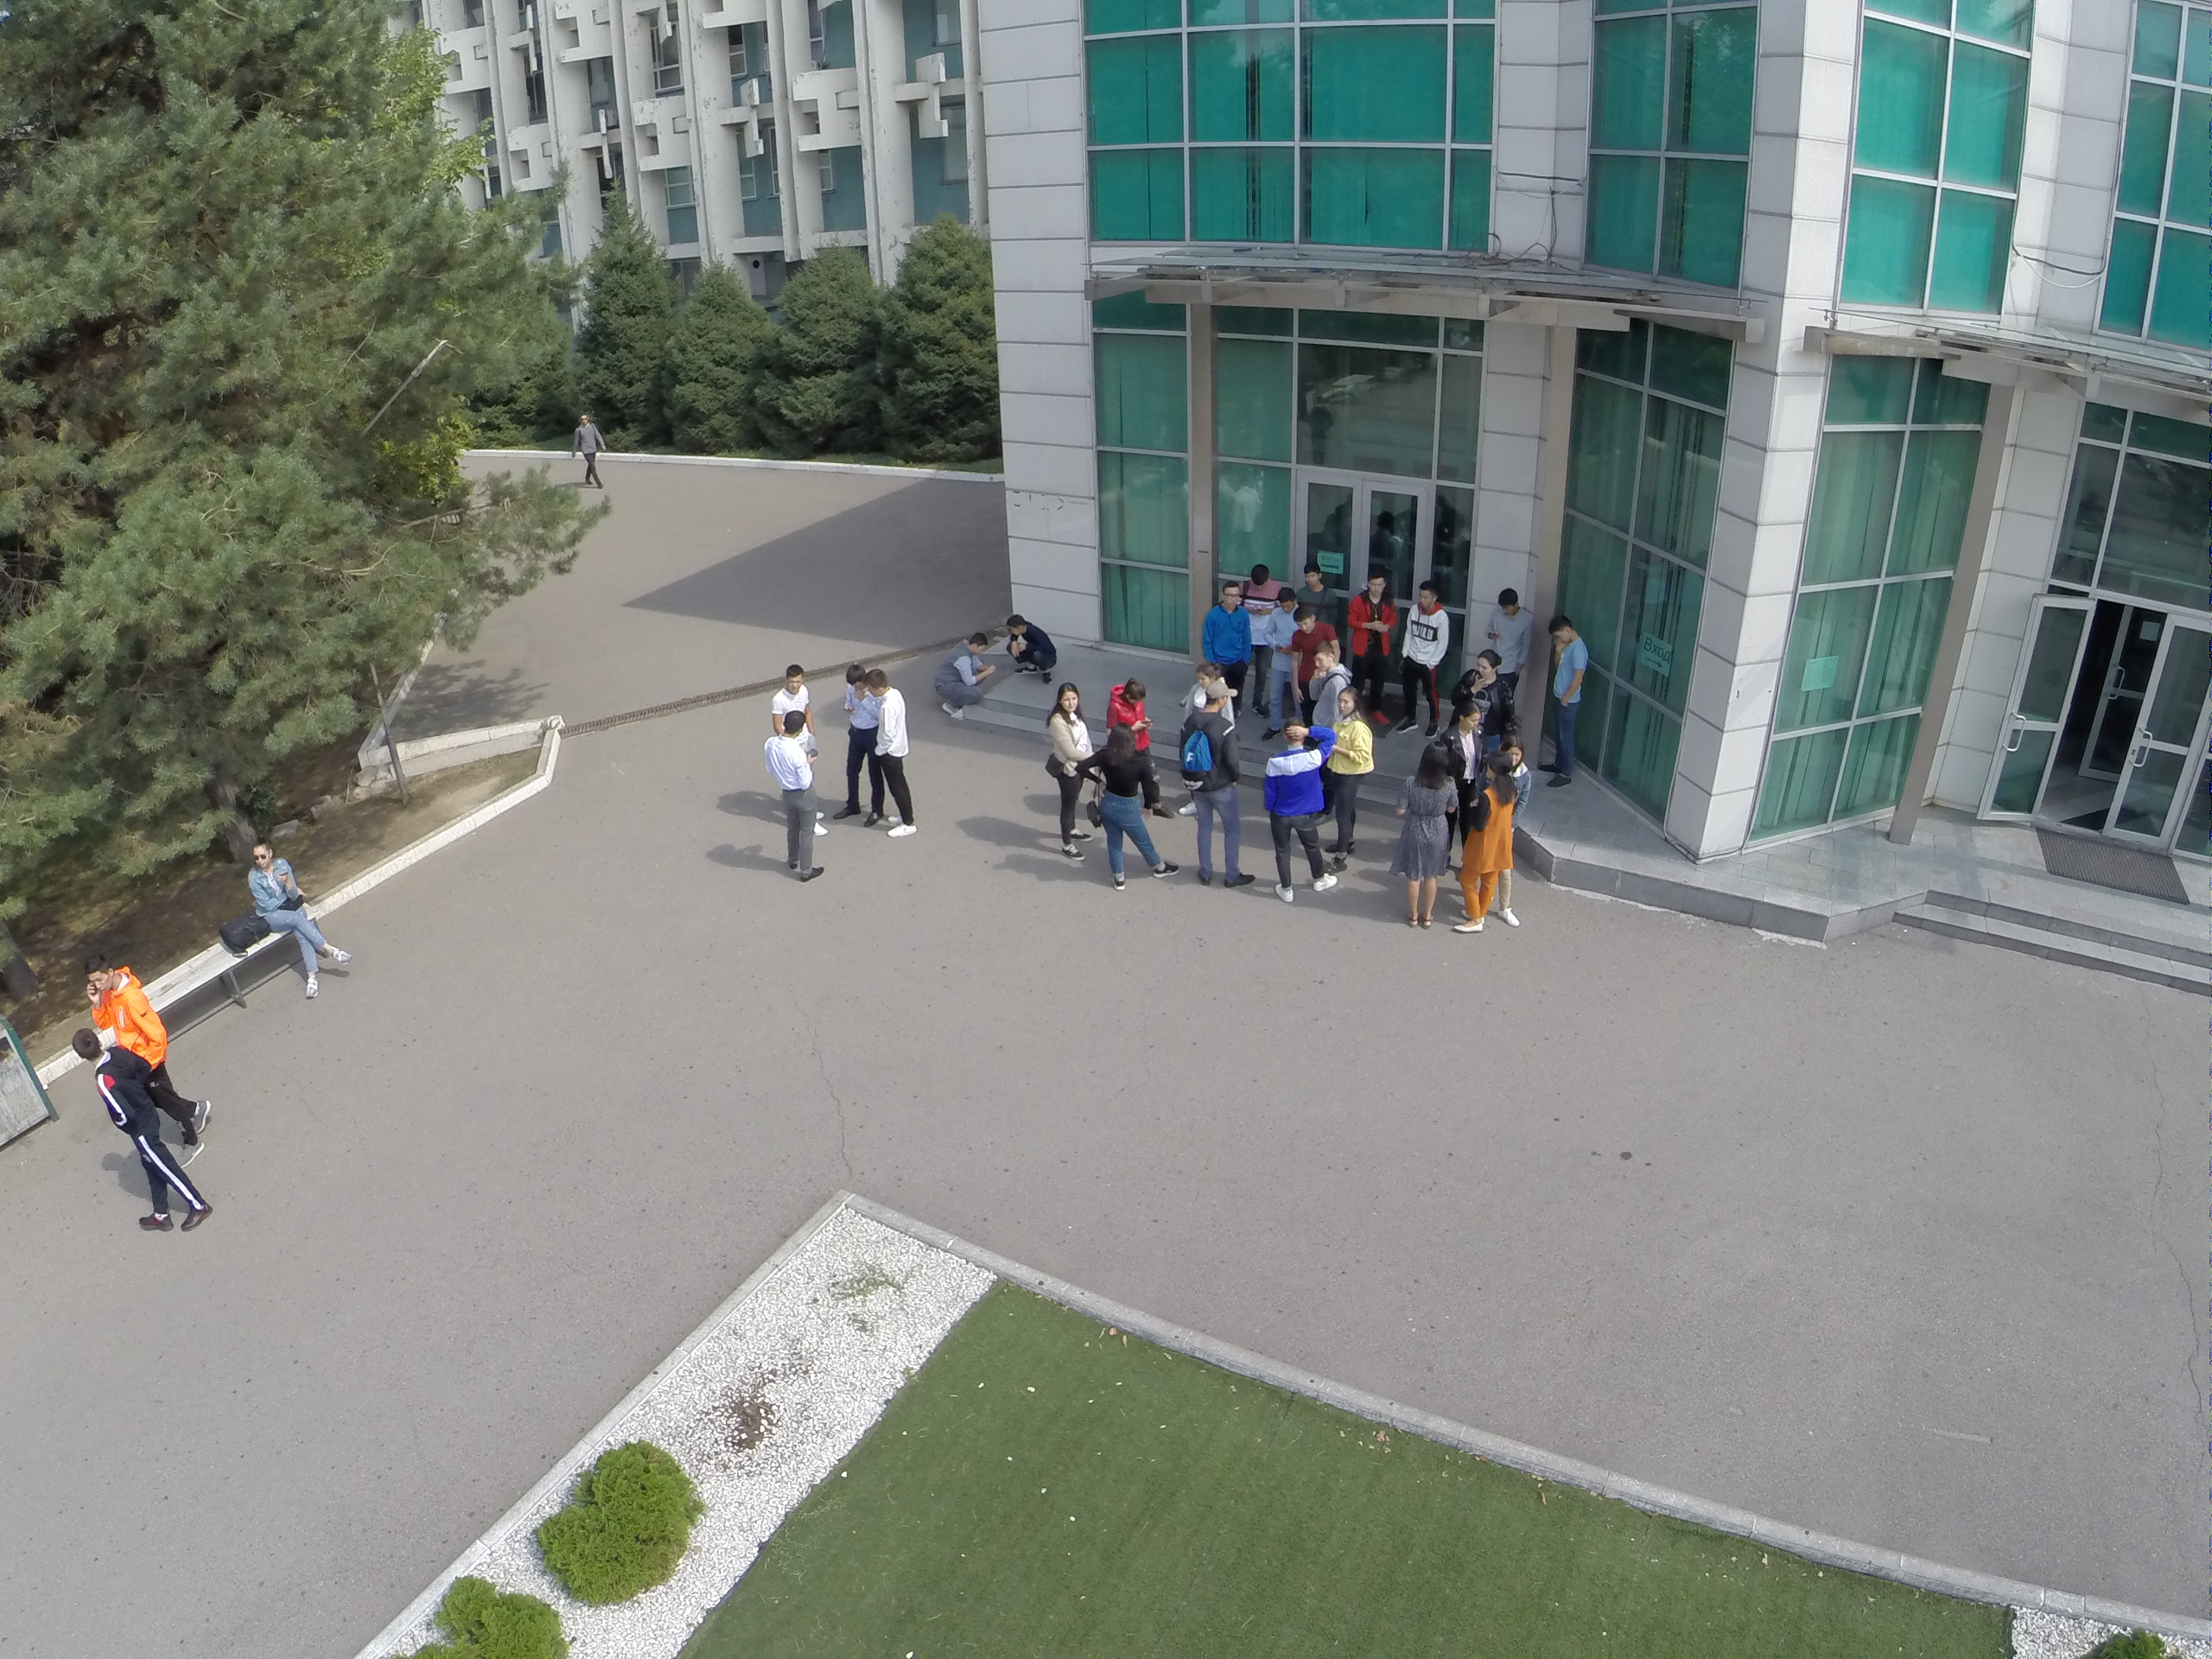person: (66, 1032, 210, 1236), (249, 829, 357, 1010), (1081, 718, 1176, 884), (1266, 716, 1341, 906), (79, 938, 193, 1054), (1190, 684, 1253, 889), (859, 668, 927, 848), (1039, 678, 1095, 873), (760, 712, 826, 886), (1400, 735, 1452, 939), (1331, 681, 1377, 874), (1540, 613, 1586, 797), (1460, 751, 1505, 938), (1352, 570, 1404, 727), (830, 662, 877, 827), (1237, 556, 1280, 717), (1405, 586, 1451, 740), (929, 629, 998, 714), (1268, 591, 1305, 733), (1004, 608, 1063, 690), (1484, 588, 1533, 683), (1206, 583, 1249, 677), (1446, 702, 1489, 786), (1475, 646, 1516, 724), (1298, 606, 1338, 680), (1112, 677, 1150, 738), (1292, 571, 1335, 621), (771, 658, 810, 708)
